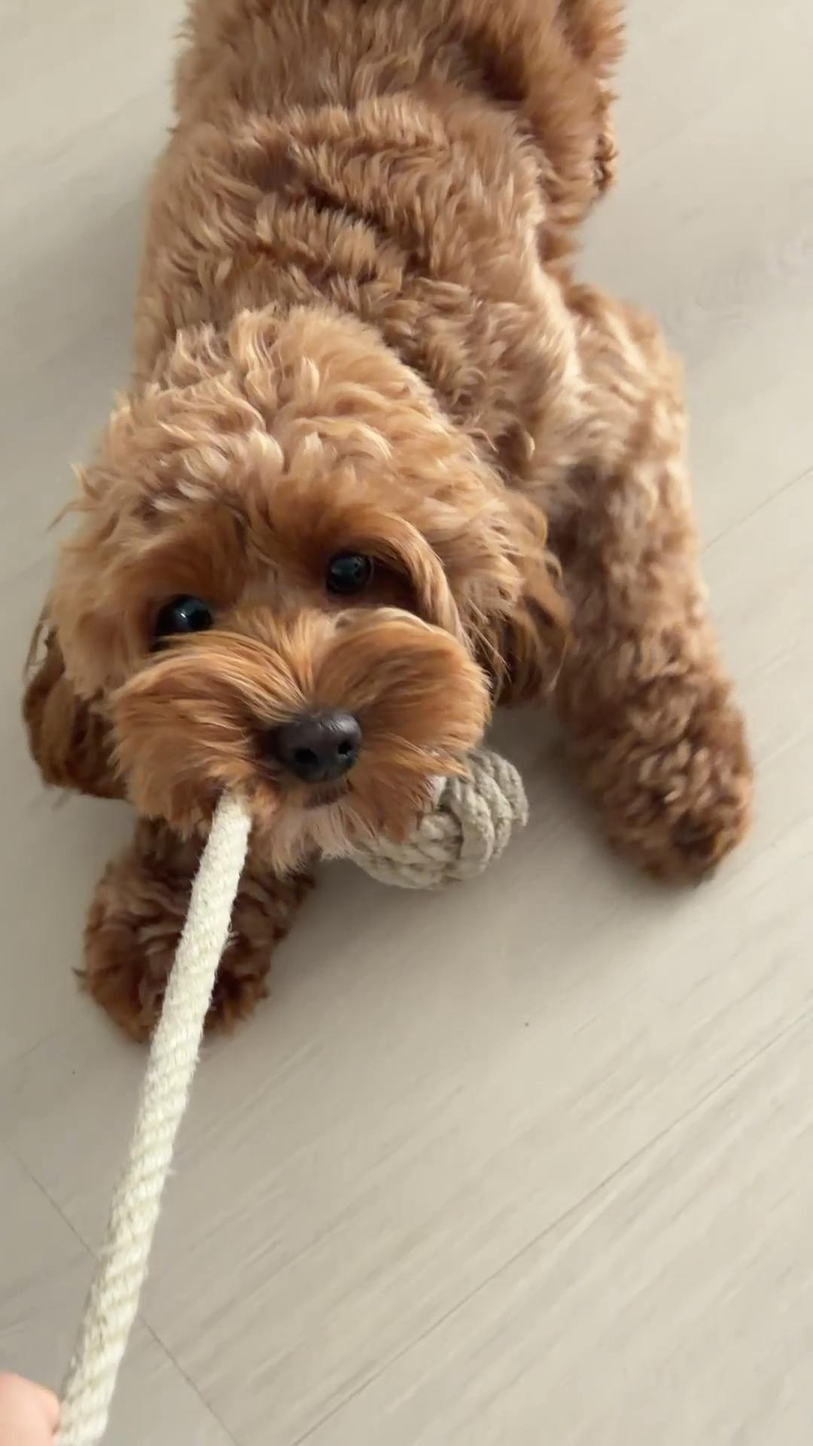puppy-dog: (20, 0, 758, 1057)
